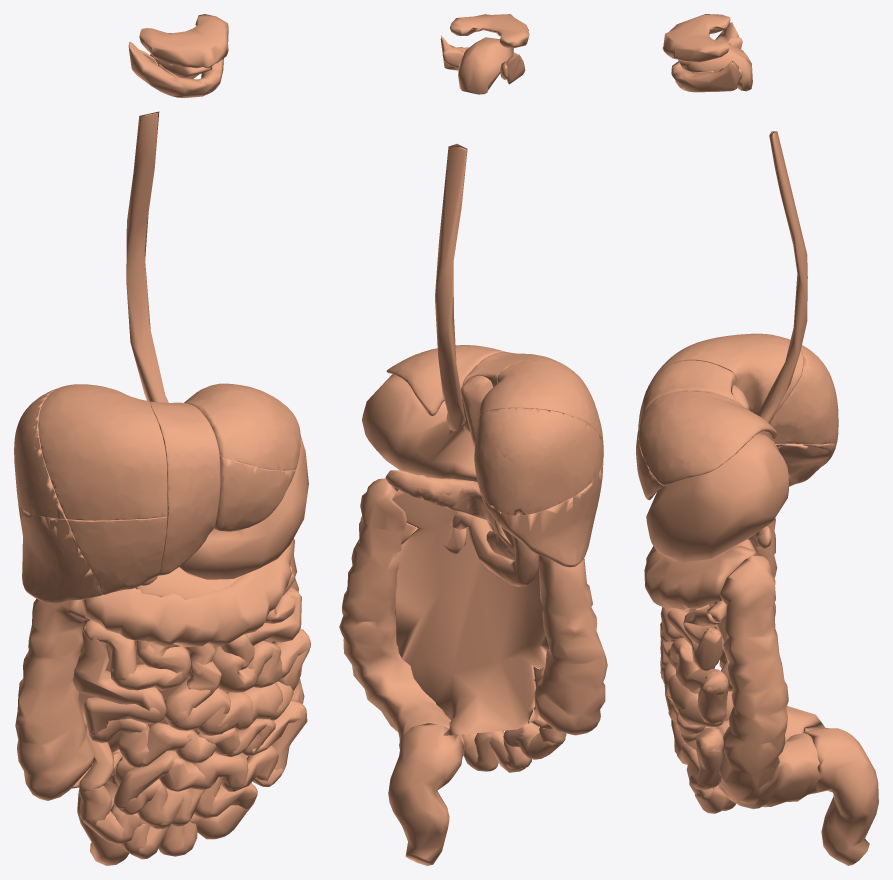
File: digestive.glb
3 renders of one model, left to right at view 1: azimuth 30°, elevation 25°; view 2: azimuth 150°, elevation 25°; view 3: azimuth 270°, elevation 25°, orthographic. The views are drawn at different scales.
Visible parts, largest first — view 1: FJ2824, FJ2566, FJ2572, FJ2820, FJ2818, FJ2563, FJ2564, FJ2821, FJ2409, FJ2819, FJ1252, FJ1858 (+40 smaller); view 2: FJ3398, FJ2567, FJ2566, FJ1858, FJ2564, FJ2571, FJ2563, FJ2824, FJ2409, FJ2823, FJ2818, FJ2573 (+11 smaller); view 3: FJ2567, FJ2564, FJ2818, FJ2571, FJ2824, FJ2572, FJ2563, FJ2823, FJ2820, FJ1252, FJ1253, FJ2623 (+15 smaller).
Boxes of the visible parts, x1=… form: FJ2824: x1=38, y1=384, x2=167, y2=520; FJ2566: x1=15, y1=599, x2=95, y2=800; FJ2572: x1=82, y1=539, x2=293, y2=647; FJ2820: x1=149, y1=401, x2=220, y2=575; FJ2818: x1=184, y1=383, x2=300, y2=470; FJ2563: x1=126, y1=111, x2=168, y2=402; FJ2564: x1=179, y1=435, x2=308, y2=579; FJ2821: x1=67, y1=516, x2=167, y2=594; FJ2409: x1=18, y1=502, x2=99, y2=603; FJ2819: x1=214, y1=455, x2=295, y2=531; FJ1252: x1=139, y1=14, x2=228, y2=68; FJ1858: x1=14, y1=387, x2=66, y2=519; FJ3398: x1=392, y1=486, x2=549, y2=735; FJ2567: x1=339, y1=478, x2=464, y2=756; FJ2566: x1=534, y1=555, x2=607, y2=735; FJ1858: x1=479, y1=408, x2=603, y2=515; FJ2564: x1=362, y1=374, x2=477, y2=482; FJ2571: x1=388, y1=723, x2=464, y2=865; FJ2563: x1=435, y1=144, x2=467, y2=431; FJ2824: x1=479, y1=356, x2=603, y2=445; FJ2409: x1=484, y1=461, x2=603, y2=567; FJ2823: x1=474, y1=408, x2=603, y2=514; FJ2818: x1=386, y1=345, x2=505, y2=415; FJ2573: x1=450, y1=512, x2=538, y2=586; FJ2567: x1=718, y1=555, x2=821, y2=809; FJ2564: x1=646, y1=433, x2=788, y2=562; FJ2818: x1=639, y1=391, x2=776, y2=485; FJ2571: x1=804, y1=728, x2=878, y2=865; FJ2824: x1=651, y1=333, x2=803, y2=423; FJ2572: x1=644, y1=546, x2=756, y2=609; FJ2563: x1=757, y1=131, x2=807, y2=433; FJ2823: x1=769, y1=345, x2=838, y2=444; FJ2820: x1=638, y1=360, x2=738, y2=428; FJ1252: x1=662, y1=14, x2=730, y2=62; FJ1253: x1=671, y1=22, x2=738, y2=92; FJ2623: x1=667, y1=608, x2=722, y2=671.
Size of the model in its own units: 0.2437 by 0.7221 by 0.1907.
